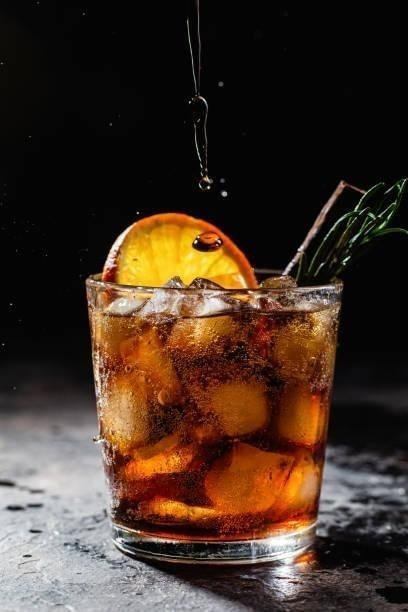glass-normal: (82, 266, 345, 569)
